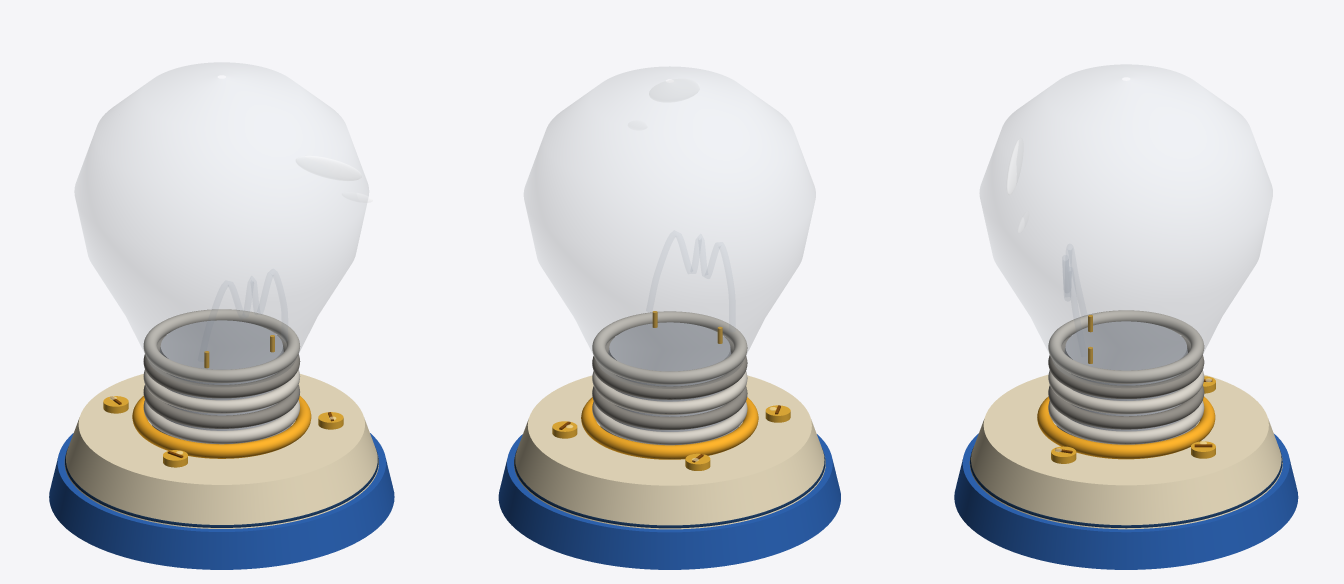
Rendered from test-light-bulb-body.glb.
The picture shows the model from 3 angles, left to right: view 1: azimuth 30°, elevation 25°; view 2: azimuth 150°, elevation 25°; view 3: azimuth 270°, elevation 25°; orthographic projection.
Parts seen in each view (by area): view 1: TestLightBulbBody; view 2: TestLightBulbBody; view 3: TestLightBulbBody.
Part boxes in pixels (x1,y1,x2,y2): TestLightBulbBody: (49,62,394,569); TestLightBulbBody: (498,66,840,569); TestLightBulbBody: (954,64,1298,569).
Bounding box in the file's own units: 2 × 2.44 × 2.
